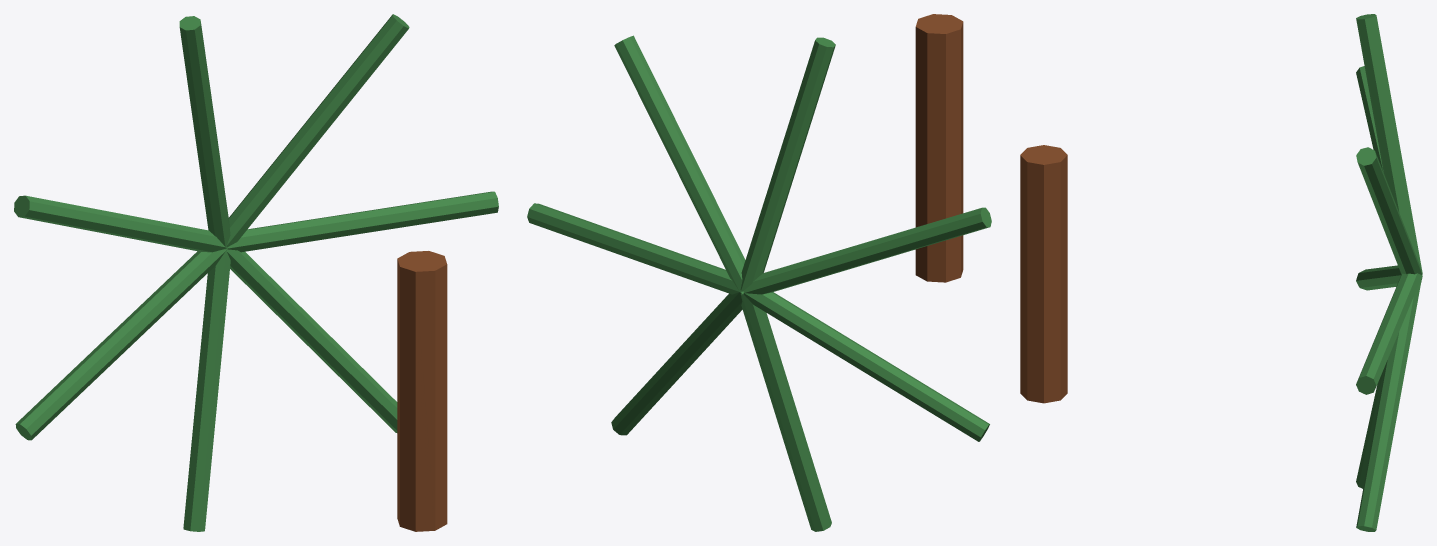
Rendered from coastal_palm.glb.
3 renders of one model, left to right at view 1: azimuth 30°, elevation 25°; view 2: azimuth 150°, elevation 25°; view 3: azimuth 270°, elevation 25°, orthographic. The views are drawn at different scales.
Visible parts, largest first — view 1: trunk.003, palm_frond.004, palm_frond.001, palm_frond.005, palm_frond, palm_frond.006, palm_frond.002, palm_frond.003; view 2: trunk.003, palm_frond.001, palm_frond.004, palm_frond.002, palm_frond.003, palm_frond.005, palm_frond, palm_frond.006; view 3: trunk.003, palm_frond.006, palm_frond.002, palm_frond.001, palm_frond, palm_frond.004, palm_frond.005, palm_frond.003.
Boxes of the visible parts, x1=… form: trunk.003: x1=397, y1=251, x2=447, y2=531; palm_frond.004: x1=15, y1=249, x2=227, y2=440; palm_frond.001: x1=226, y1=14, x2=409, y2=246; palm_frond.005: x1=183, y1=248, x2=230, y2=531; palm_frond: x1=226, y1=191, x2=498, y2=252; palm_frond.006: x1=227, y1=249, x2=397, y2=432; palm_frond.002: x1=179, y1=16, x2=230, y2=248; palm_frond.003: x1=14, y1=195, x2=227, y2=252; trunk.003: x1=915, y1=14, x2=963, y2=282; palm_frond.001: x1=614, y1=35, x2=745, y2=291; palm_frond.004: x1=743, y1=292, x2=989, y2=441; palm_frond.002: x1=740, y1=37, x2=835, y2=291; palm_frond.003: x1=743, y1=207, x2=991, y2=294; palm_frond.005: x1=740, y1=292, x2=831, y2=531; palm_frond: x1=527, y1=203, x2=742, y2=294; palm_frond.006: x1=611, y1=291, x2=743, y2=435; trunk.003: x1=1020, y1=145, x2=1067, y2=403; palm_frond.006: x1=1356, y1=276, x2=1422, y2=531; palm_frond.002: x1=1356, y1=14, x2=1422, y2=272; palm_frond.001: x1=1356, y1=147, x2=1422, y2=274; palm_frond: x1=1356, y1=273, x2=1422, y2=394; palm_frond.004: x1=1356, y1=265, x2=1422, y2=290; palm_frond.005: x1=1356, y1=276, x2=1422, y2=488; palm_frond.003: x1=1356, y1=66, x2=1422, y2=273.
Bounding box in the file's own units: 3.86 × 3.95 × 3.06.
